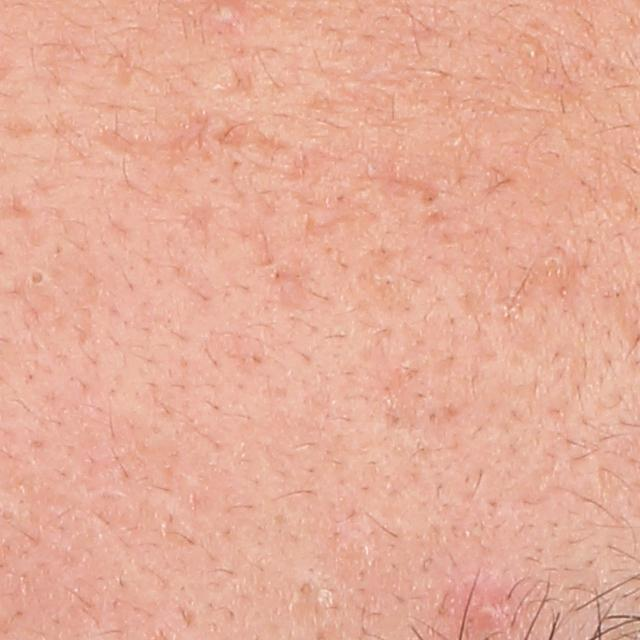atrophic_scar: (215, 121, 303, 157), (179, 195, 231, 244), (93, 129, 163, 165), (370, 174, 447, 206), (300, 208, 364, 246), (0, 199, 35, 220), (6, 118, 36, 138)
comedo: (28, 266, 49, 287)
papule: (465, 591, 509, 633)
